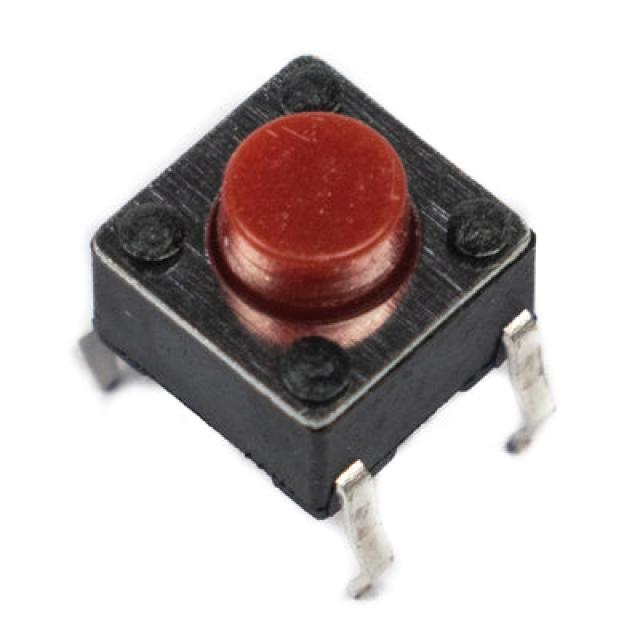Push button: (78, 58, 556, 600)
